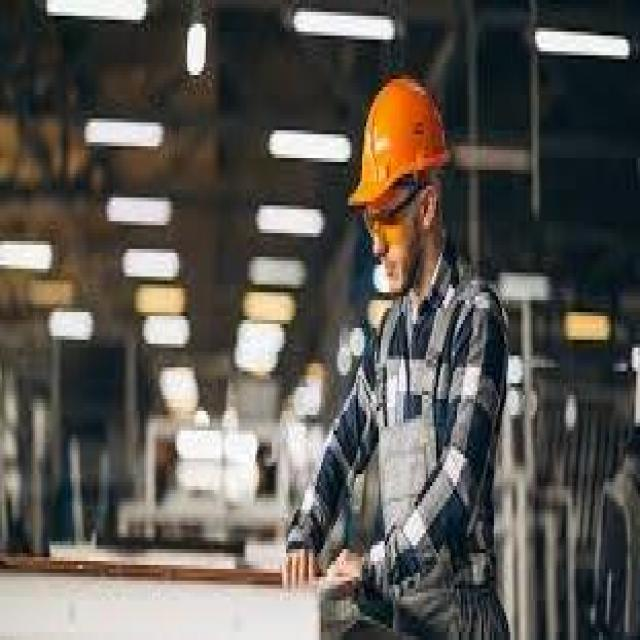Safety-Helmet: (344, 64, 454, 214)
